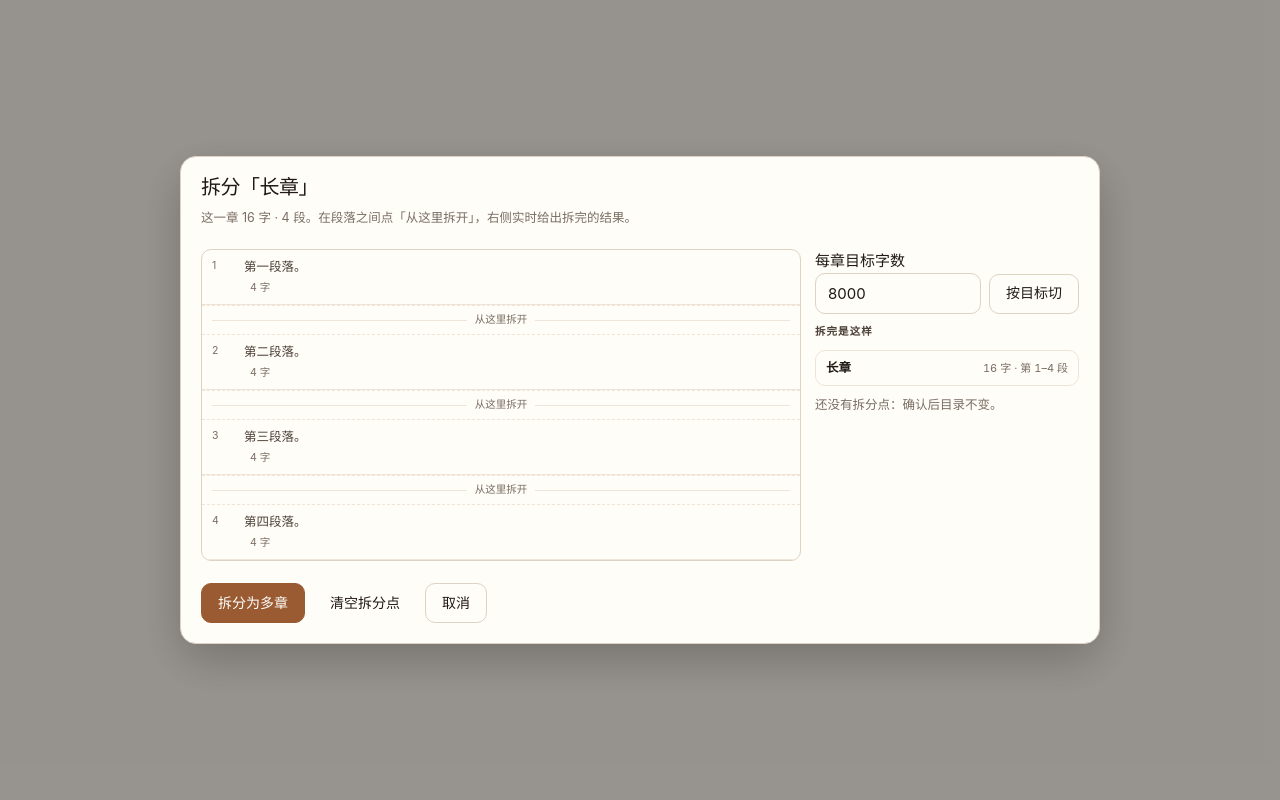
Test case: 拆分章节面板 › 目标字数太小会被拦下，不布点
Replace the text in the number field with test id "split-target" with "5": [898, 293] box [815,273,981,314]
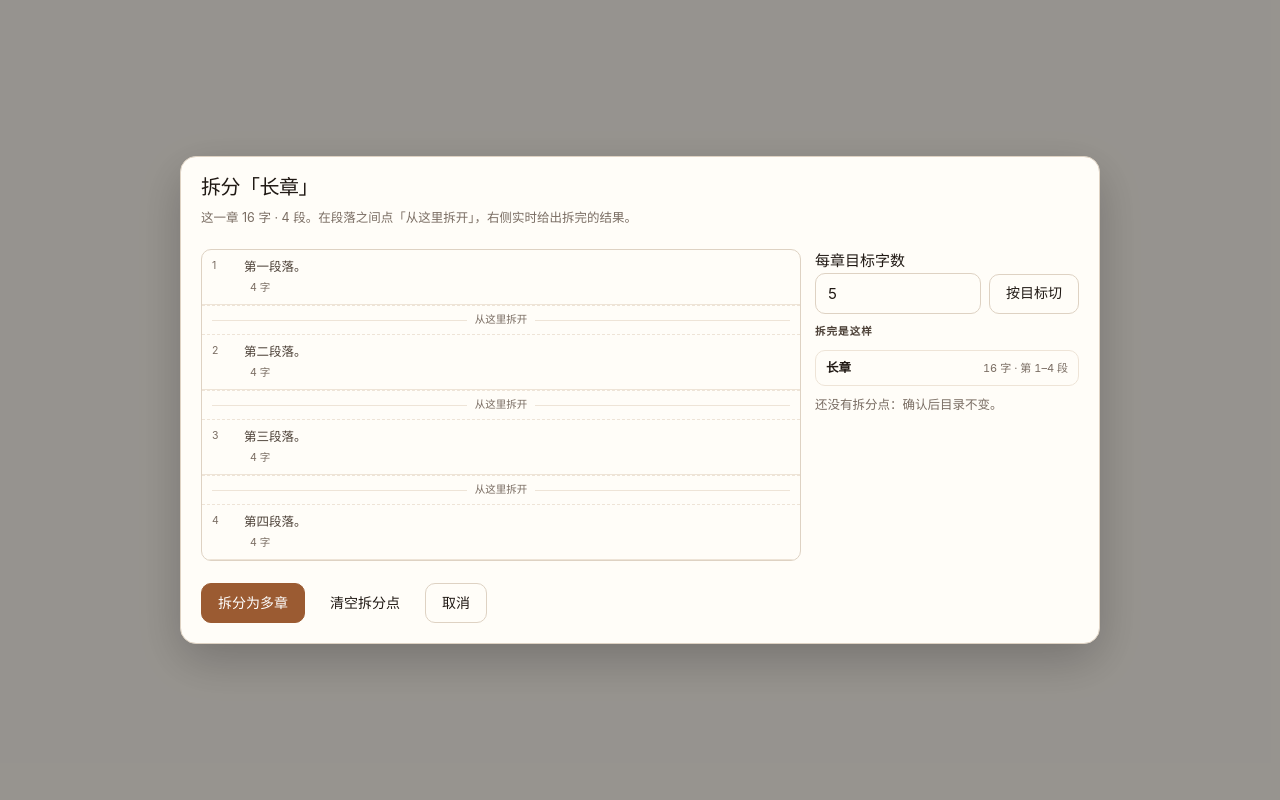
Click the button with test id "split-auto" showing "按目标切": [1034, 294] box [989,274,1079,314]
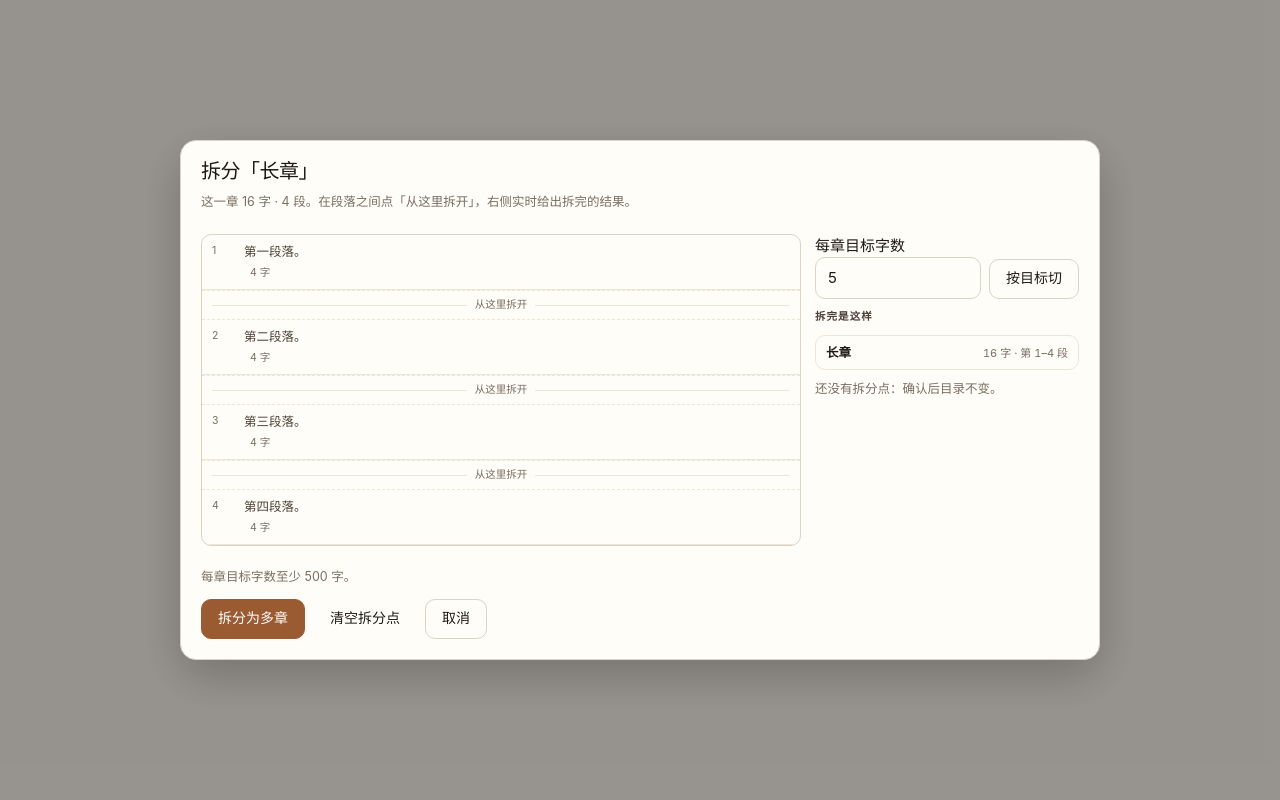
Expected: the button with test id "split-confirm" is disabled, [201,599,305,639]
Now the message with test id "split-submit-error" shows "至少 500 字", box [201,569,356,584]
